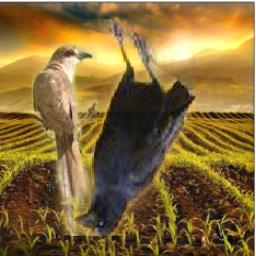Crow: (73, 19, 196, 236)
Cuckoo: (32, 45, 97, 237)
